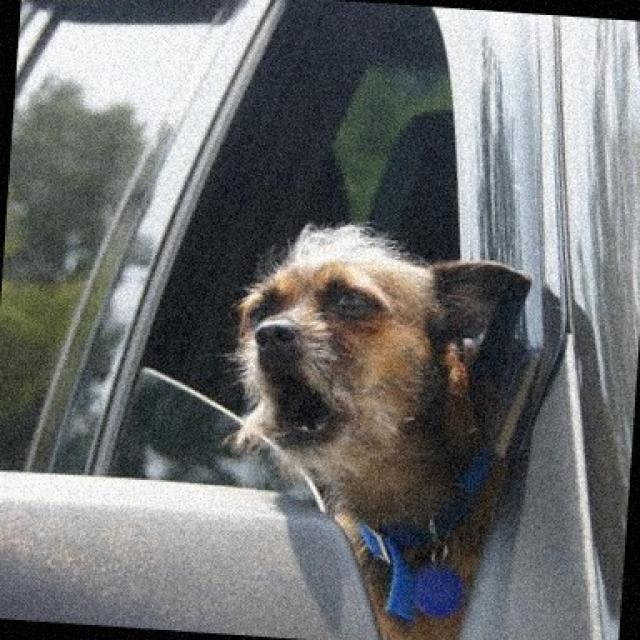angry: (225, 195, 505, 633)
